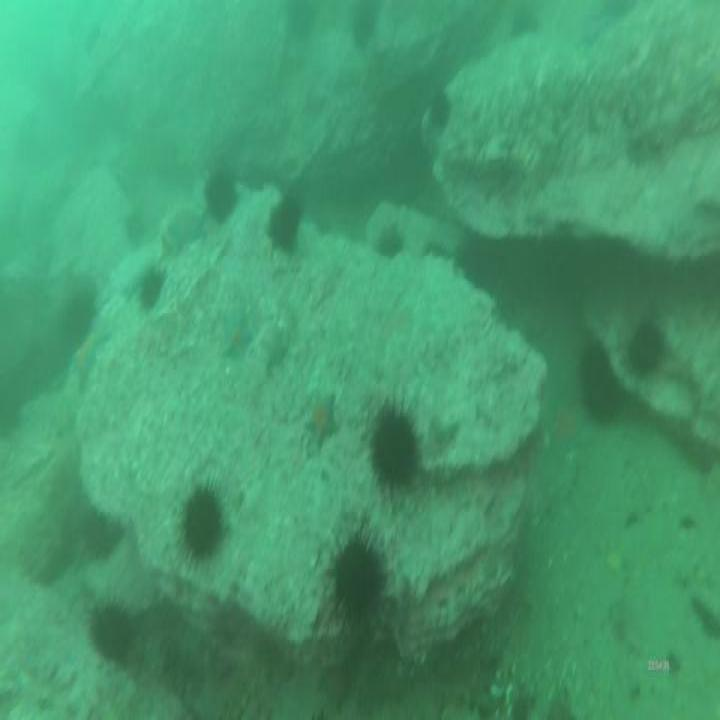echinus: (335, 533, 383, 617), (374, 409, 417, 485), (582, 343, 621, 420), (183, 490, 219, 556), (93, 604, 134, 658), (629, 320, 663, 372), (202, 175, 239, 221), (267, 195, 298, 249), (352, 2, 381, 48), (373, 222, 401, 254), (142, 272, 163, 304), (434, 84, 450, 124)
starfish: (75, 325, 107, 379), (310, 398, 339, 446), (223, 317, 252, 359)
